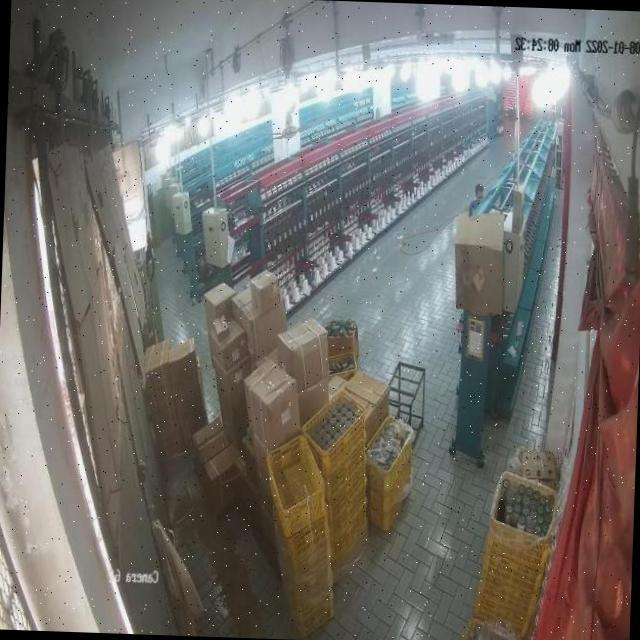person: (466, 174, 486, 217)
